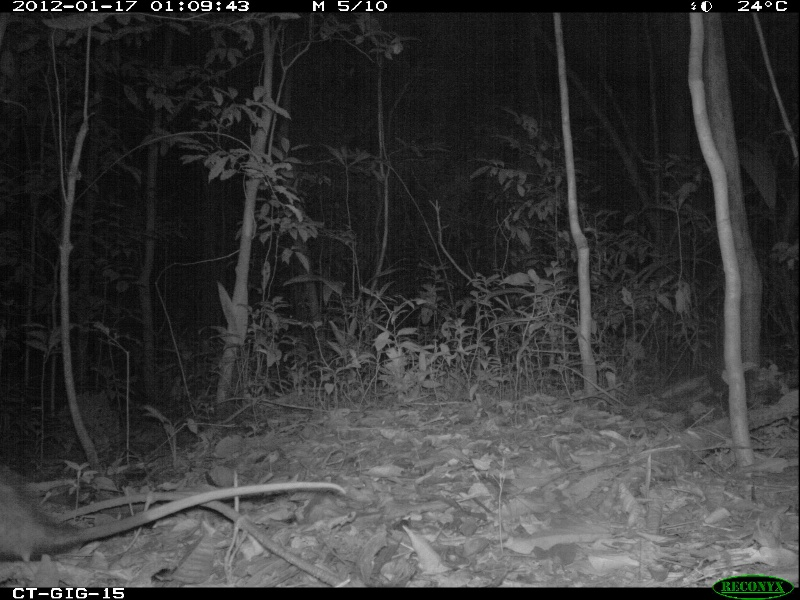opossum: (1, 459, 349, 559)
